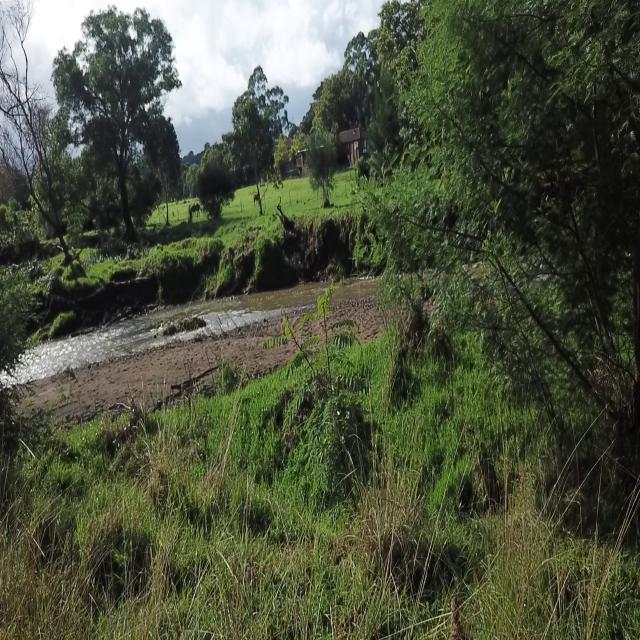Mysore-Thorn-Weed: (260, 285, 374, 469)
